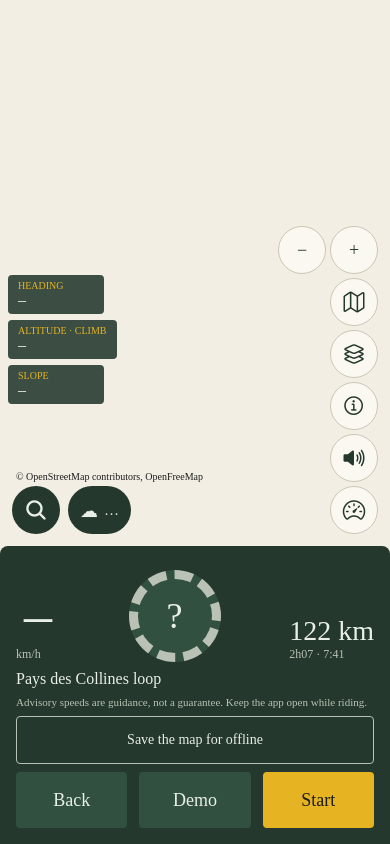
Test case: a pack that cannot even be created is a failure, not a crash
What coordinates should you click on to do the following:
click the button labelled "Save the map for offline"
I would click on:
 (195, 740)
Its box is [16,716,374,764].
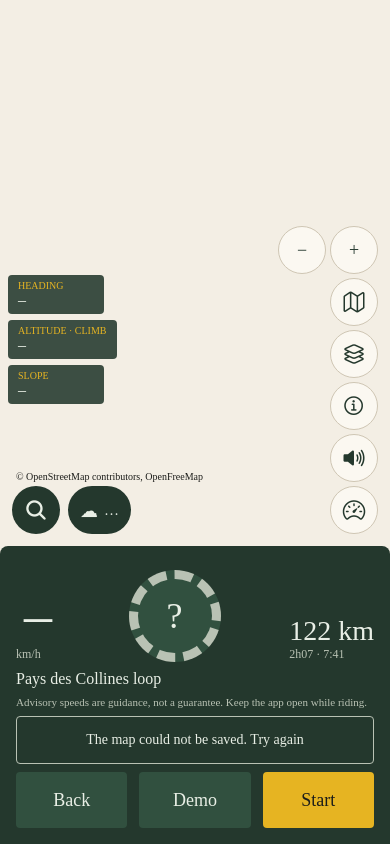
Check: the text "The map could not be saved. Try again" is shown, box [86,732,304,748]
